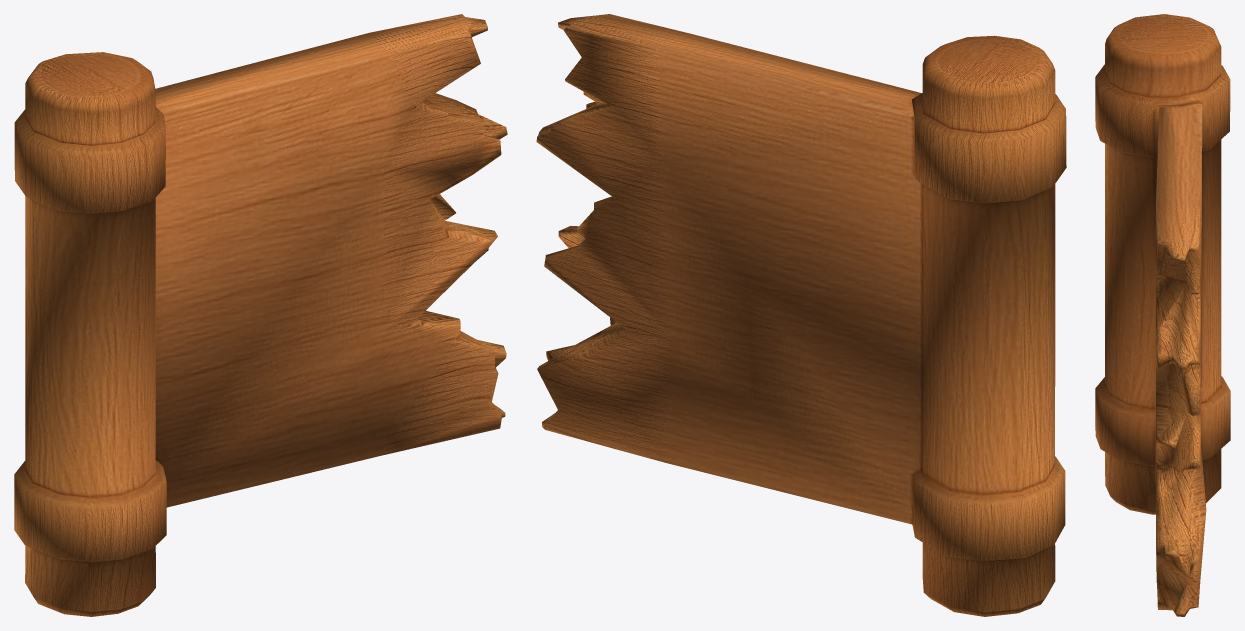
The model's file is board-left.glb.
3 renders of one model, left to right at view 1: azimuth 30°, elevation 25°; view 2: azimuth 150°, elevation 25°; view 3: azimuth 270°, elevation 25°, orthographic. The views are drawn at different scales.
Parts seen in each view (by area): view 1: tripo_node_f4a86e30-b63c-4eef-96c9-7a48bc693728; view 2: tripo_node_f4a86e30-b63c-4eef-96c9-7a48bc693728; view 3: tripo_node_f4a86e30-b63c-4eef-96c9-7a48bc693728.
Boxes of the visible parts, x1,y1,x2,y2 form: tripo_node_f4a86e30-b63c-4eef-96c9-7a48bc693728: (14,14,507,616); tripo_node_f4a86e30-b63c-4eef-96c9-7a48bc693728: (536,14,1066,616); tripo_node_f4a86e30-b63c-4eef-96c9-7a48bc693728: (1095,14,1230,616).
Size of the model in its own units: 0.9868 by 0.9995 by 0.2661.
1 material, 1 textured.
